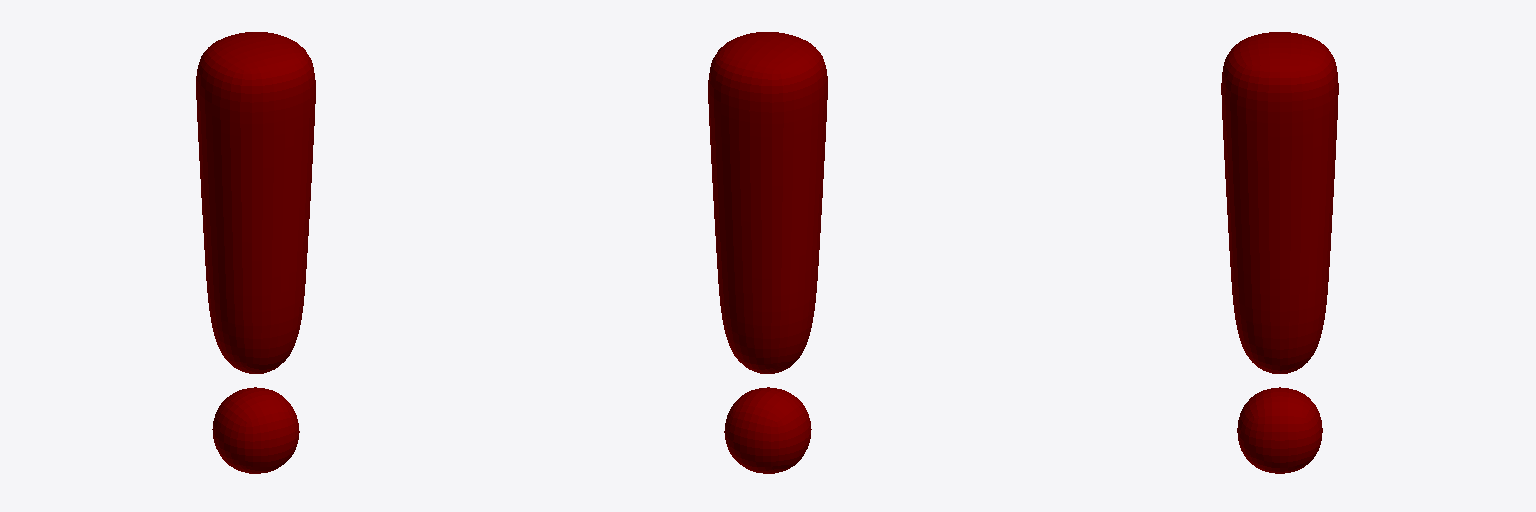
The model's file is exclamation_mark.obj.
3 renders of one model, left to right at view 1: azimuth 30°, elevation 25°; view 2: azimuth 150°, elevation 25°; view 3: azimuth 270°, elevation 25°, orthographic.
Visible parts, largest first — view 1: Cube.001, Cube; view 2: Cube.001, Cube; view 3: Cube.001, Cube.
Boxes of the visible parts, x1,y1,x2,y2 form: Cube.001: [196, 32, 315, 373]; Cube: [212, 387, 299, 473]; Cube.001: [708, 32, 827, 373]; Cube: [724, 387, 811, 473]; Cube.001: [1221, 32, 1338, 373]; Cube: [1237, 387, 1322, 473].
Bounding box in the file's own units: 2.3 × 9.25 × 2.3.